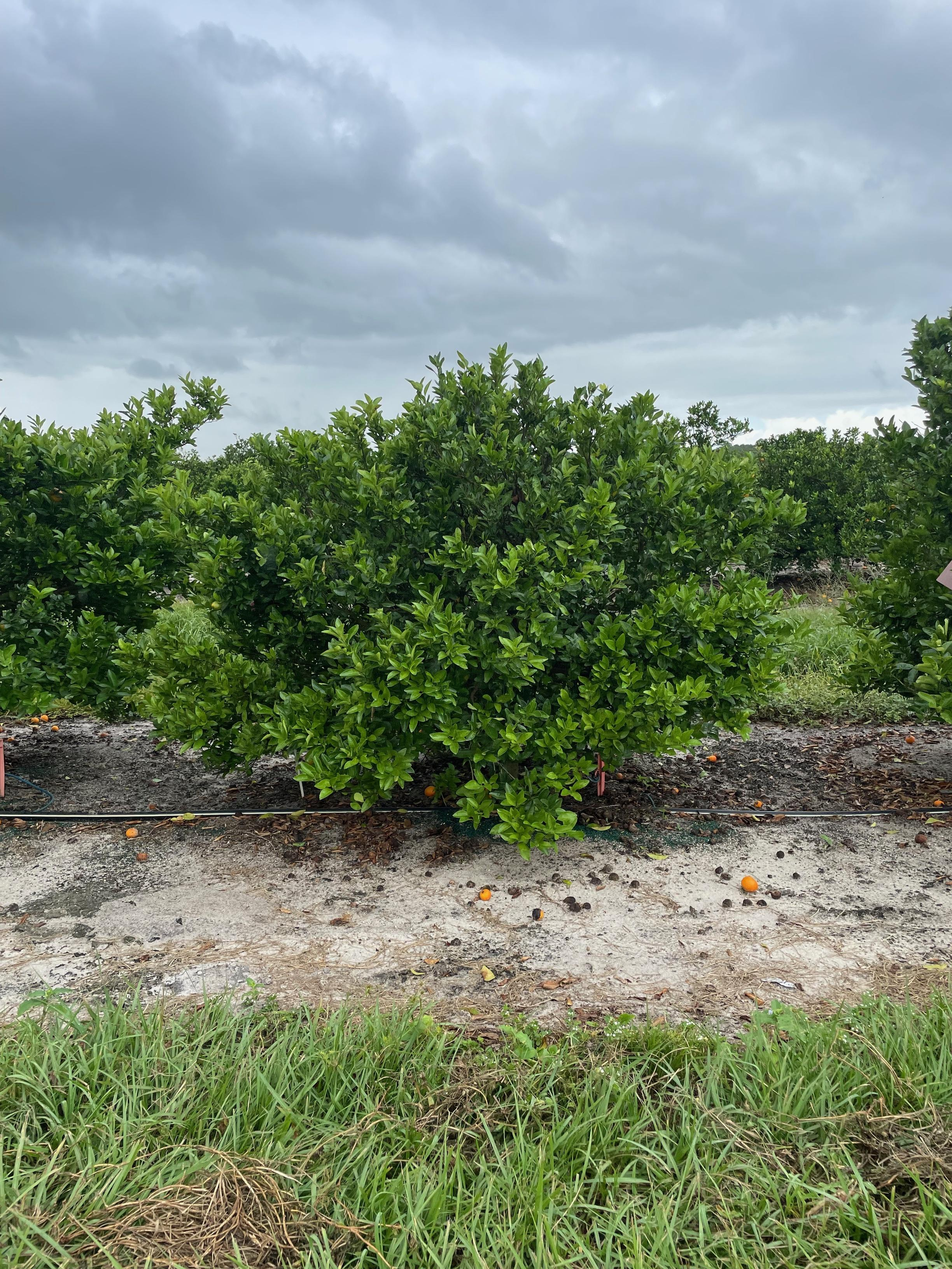fruit_on_ground: (45, 485, 66, 507)
fruit_on_tree: (740, 873, 759, 892), (422, 782, 438, 799), (477, 886, 493, 901), (931, 795, 947, 808), (530, 906, 544, 920), (124, 825, 139, 838), (914, 831, 928, 844), (706, 752, 719, 763), (37, 713, 50, 724), (904, 733, 916, 744), (96, 729, 109, 739), (753, 798, 764, 808), (28, 715, 40, 724), (50, 724, 60, 733)
